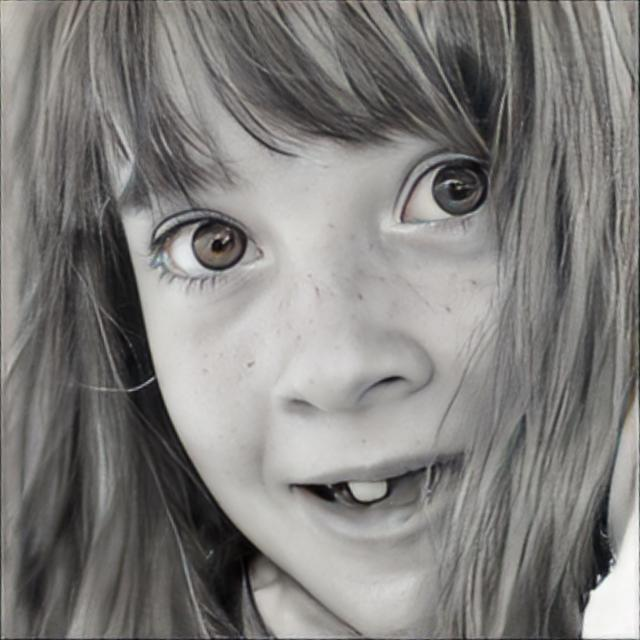surprise: (90, 0, 522, 640)
